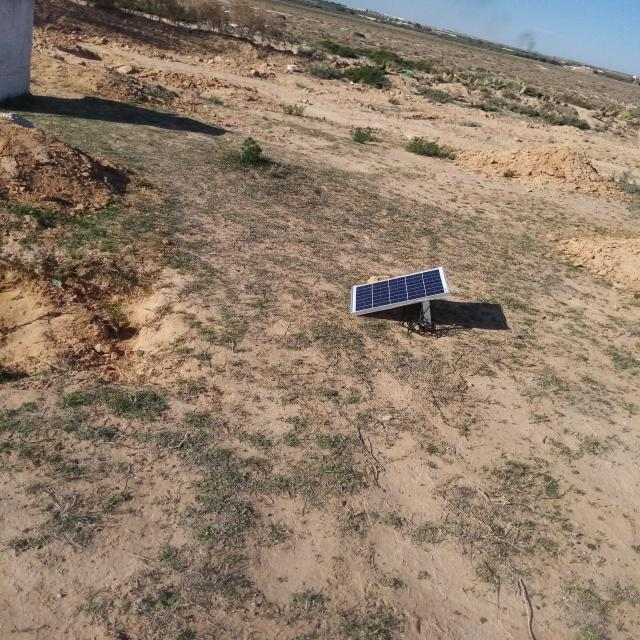no faulty: (351, 267, 450, 313)
